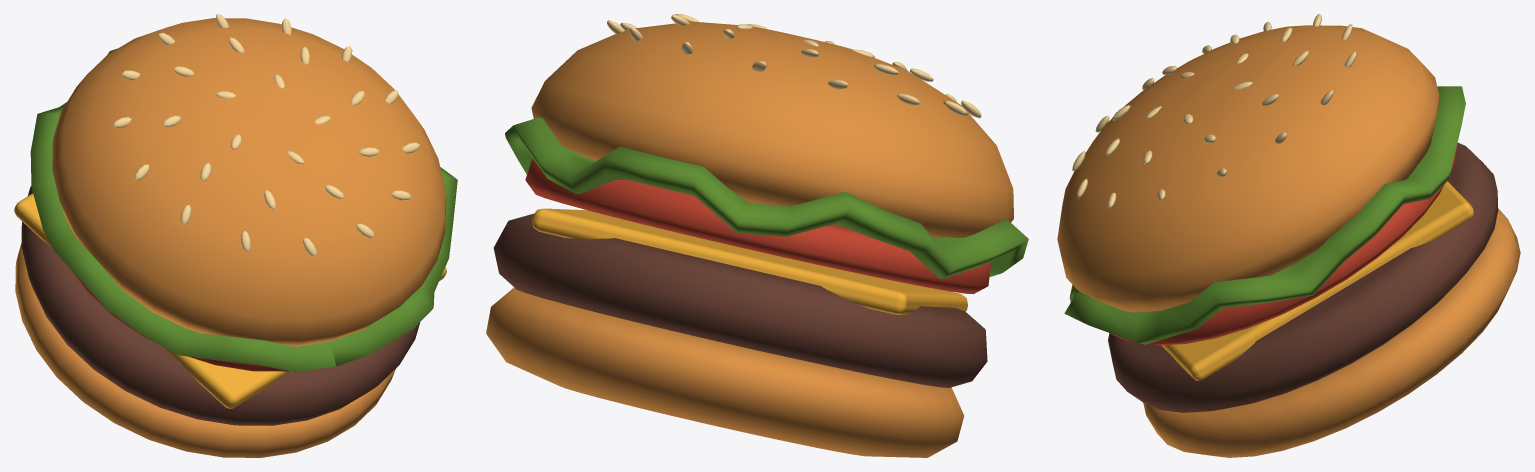
The model's file is burger.glb.
The picture shows the model from 3 angles, left to right: view 1: azimuth 30°, elevation 25°; view 2: azimuth 150°, elevation 25°; view 3: azimuth 270°, elevation 25°; orthographic projection. The views are drawn at different scales.
Parts seen in each view (by area): view 1: burger; view 2: burger; view 3: burger.
Boxes of the visible parts, x1,y1,x2,y2 form: burger: [14, 14, 457, 457]; burger: [486, 14, 1028, 457]; burger: [1057, 14, 1520, 457].
Size of the model in its own units: 1.03 by 0.9445 by 1.04.
